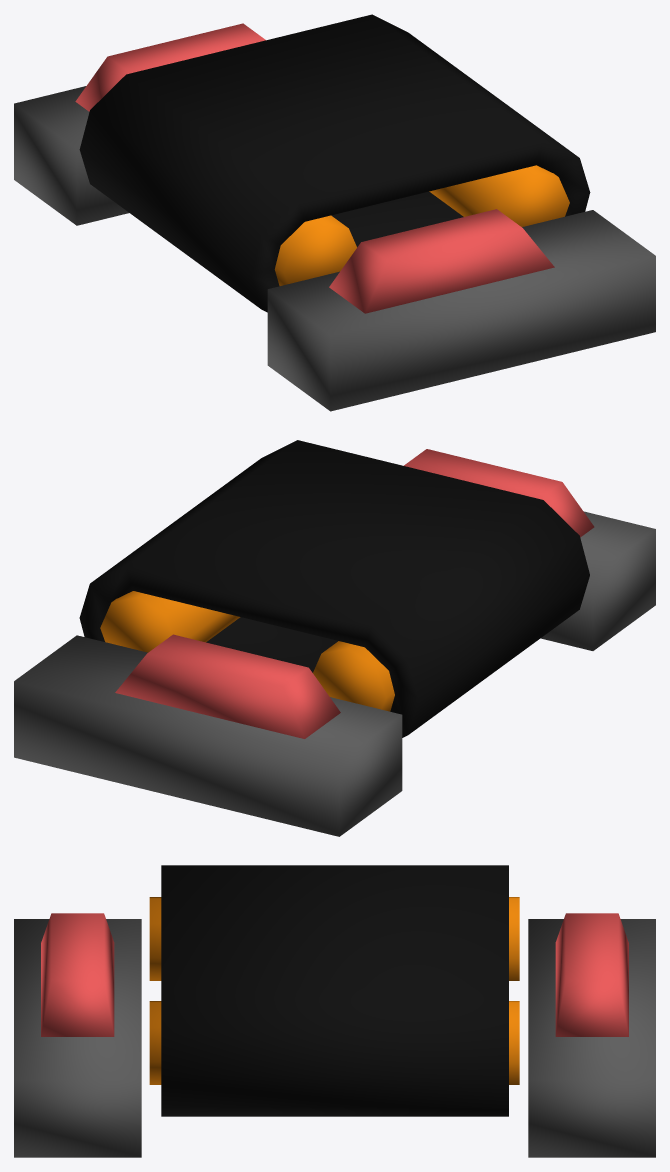
File: Conveyor_Small.fbx
The picture shows the model from 3 angles, top to bottom: view 1: azimuth 30°, elevation 25°; view 2: azimuth 150°, elevation 25°; view 3: azimuth 270°, elevation 25°; orthographic projection.
Visible parts, largest first — view 1: Plane.006, Conveyor_Side.002; view 2: Plane.006, Conveyor_Side.002; view 3: Plane.006, Conveyor_Side.002.
Boxes of the visible parts, box(x1,y1,x2,y2) form: Plane.006: box(79, 14, 590, 312); Conveyor_Side.002: box(14, 23, 655, 411); Plane.006: box(79, 440, 589, 737); Conveyor_Side.002: box(14, 449, 655, 836); Plane.006: box(149, 865, 519, 1116); Conveyor_Side.002: box(14, 913, 655, 1157).
Size of the model in its own units: 229 by 95.85 by 370.
